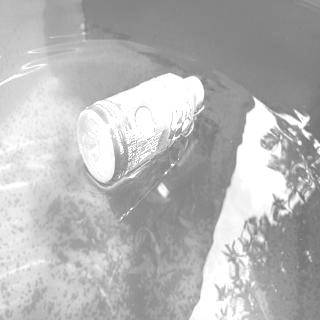bottle: (76, 72, 205, 186)
